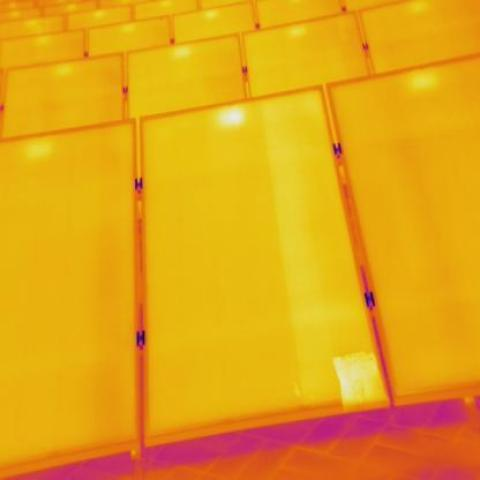fault: (334, 356, 383, 407), (220, 107, 246, 125)
